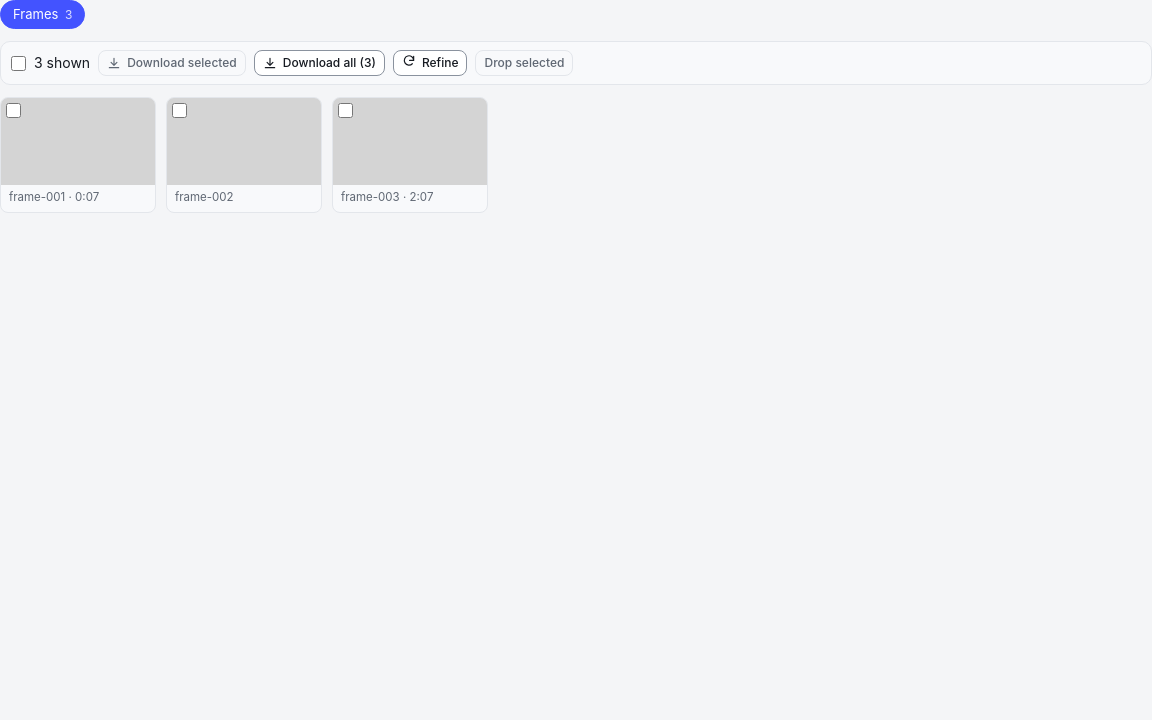
ArtifactsView › Refine ticks the frames it would drop; the person changes the ticks, confirms, and the page sends both
Click the button "Refine" at (430, 63), box [393,50,467,76]
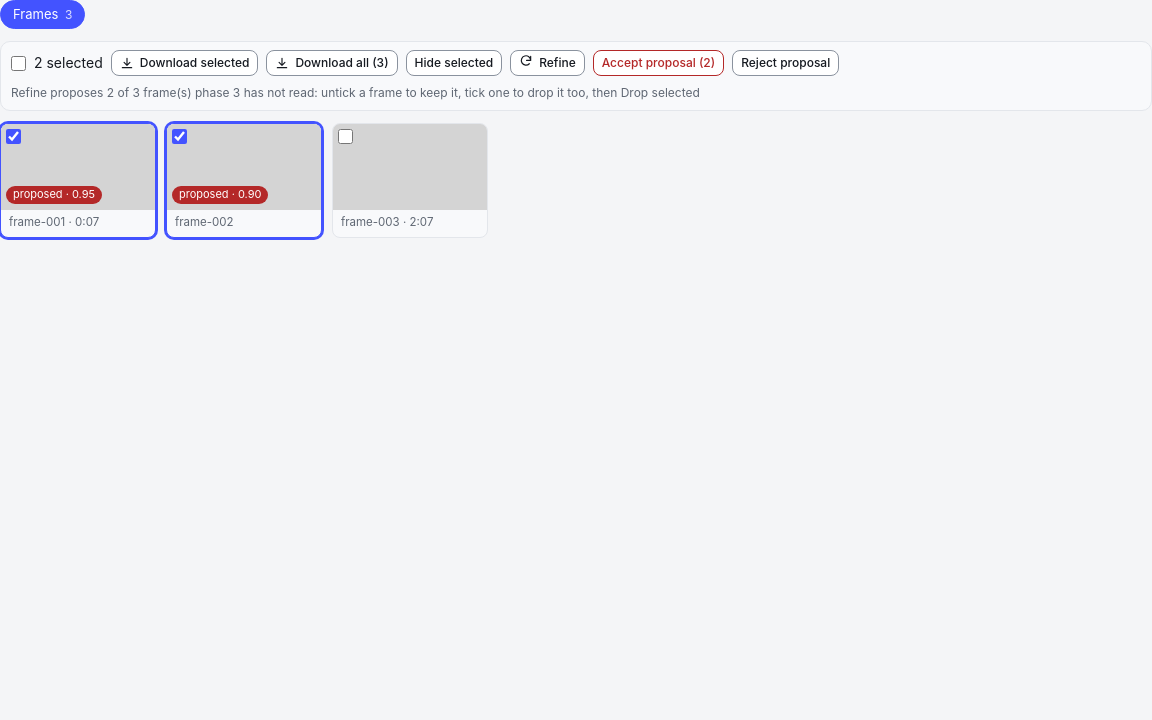
Result: the text "Refine proposes 2 of 3" is shown at [11,85,700,100]
Result: the checkbox named "select frame-001.jpg" is checked at [6,129,21,144]
Result: the text "proposed · 0.95" is shown at [6,186,102,204]
Click the checkbox named "select frame-002.jpg" at (180, 136), box [172,129,187,144]
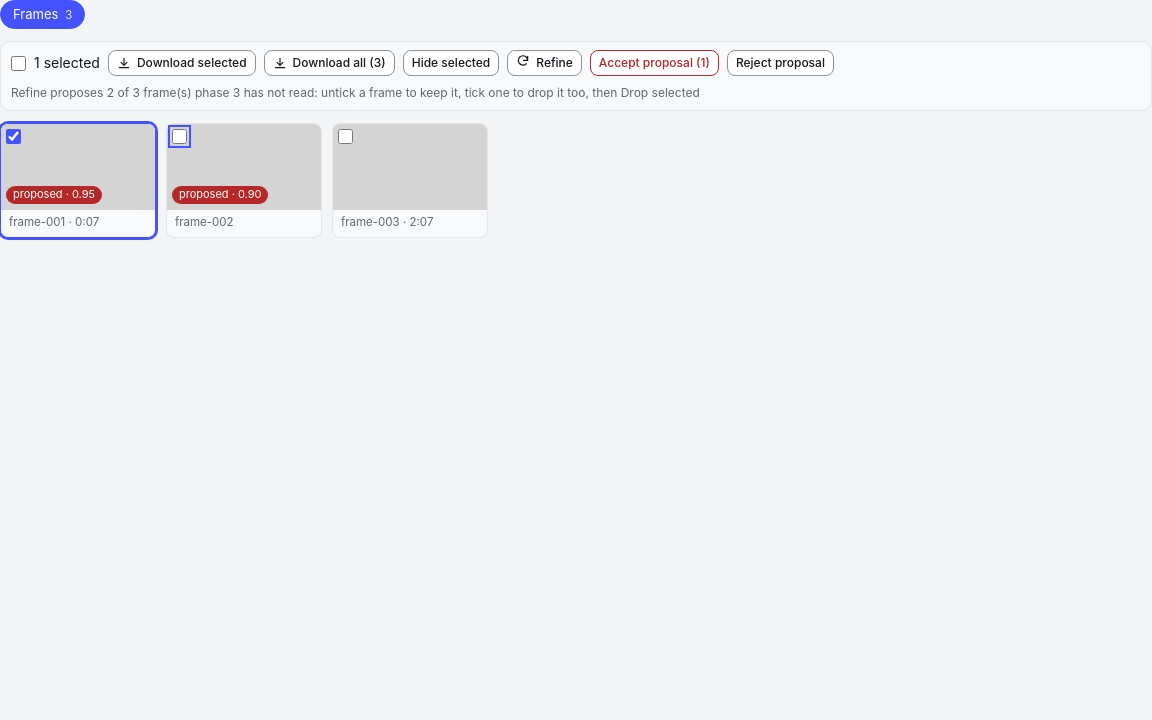
Click the checkbox named "select frame-003.jpg" at (346, 136), box [338,129,353,144]
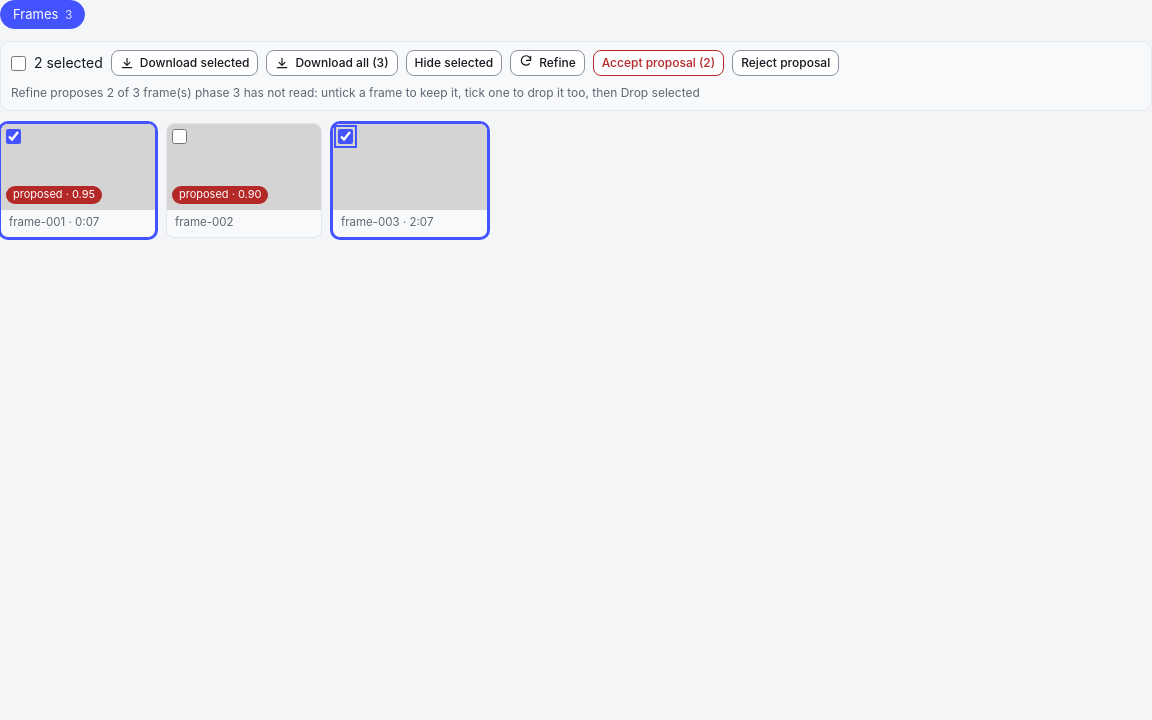
Click the button "Accept proposal (2)" at (658, 63), box [593,50,724,76]
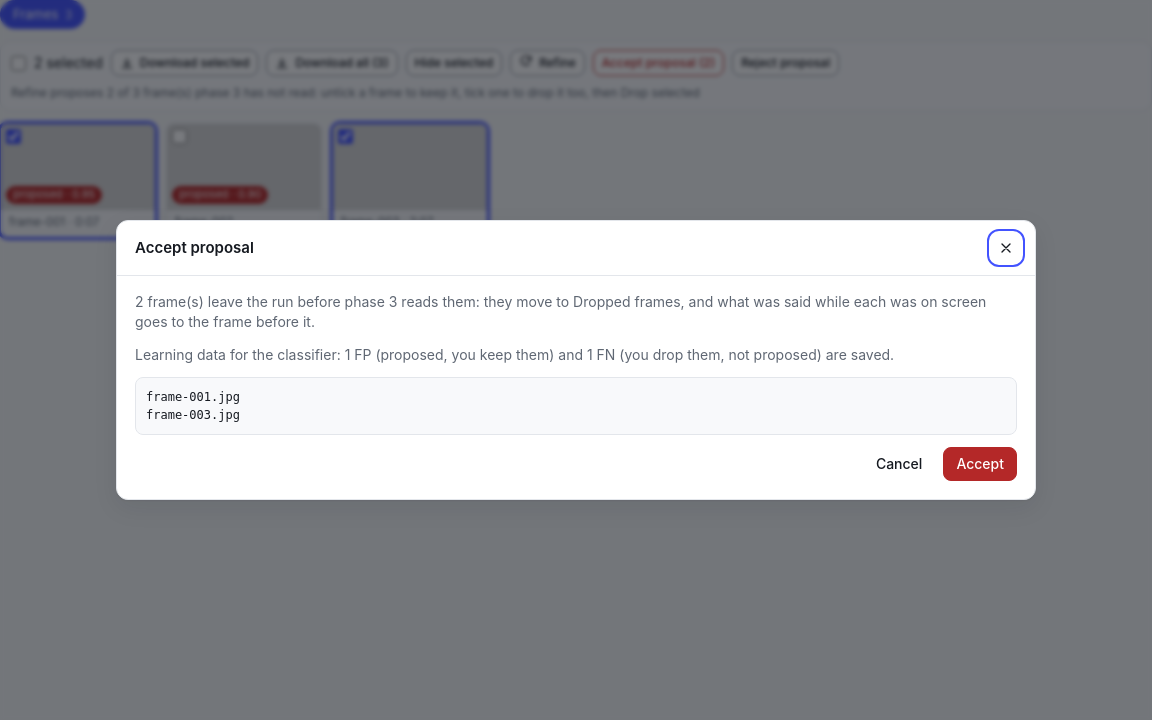
Result: the text "1 FP (proposed, you keep them) and 1 FN" is shown at [135,346,894,362]
Click the button "Accept" at (980, 464), box [943,447,1017,481]
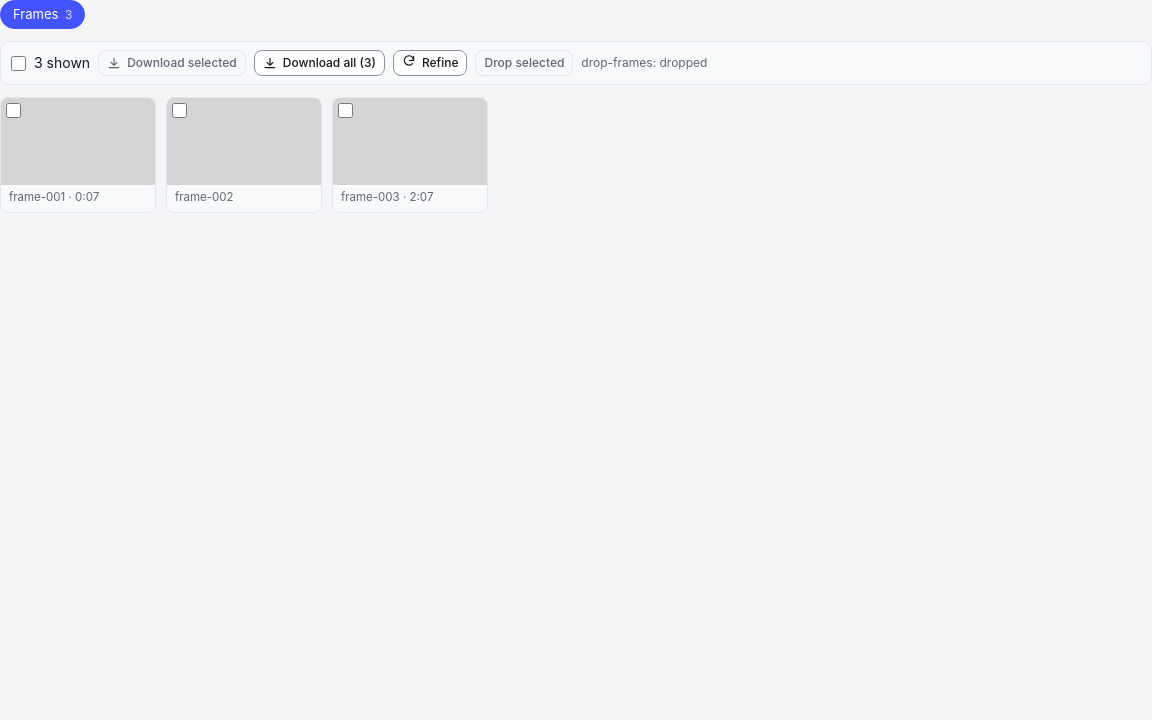
Result: the text "drop-frames: dropped" is shown at [581,54,707,72]
